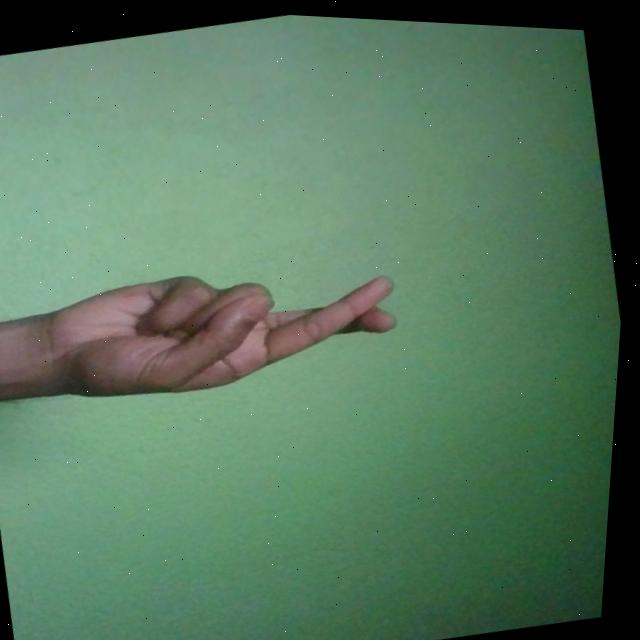Good Luck: (27, 227, 415, 425)
